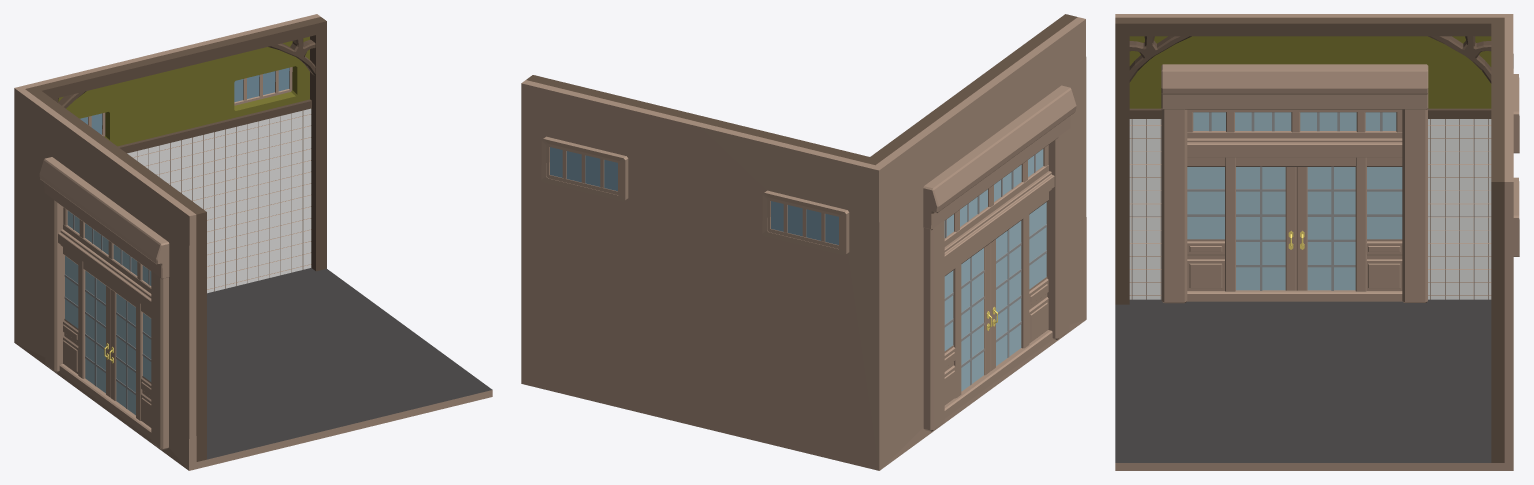
The picture shows the model from 3 angles, left to right: view 1: azimuth 30°, elevation 25°; view 2: azimuth 150°, elevation 25°; view 3: azimuth 270°, elevation 25°; orthographic projection. The views are drawn at different scales.
Visible parts, largest first — view 1: Base_2; view 2: Base_2; view 3: Base_2.
Part boxes in pixels (x1=…): Base_2: x1=14, y1=14, x2=492, y2=470; Base_2: x1=521, y1=14, x2=1086, y2=470; Base_2: x1=1115, y1=14, x2=1519, y2=470.
Bounding box in the file's own units: 520 × 508 × 401.
